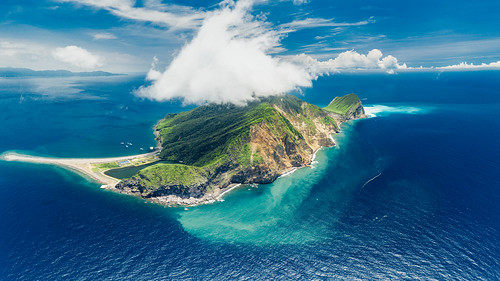turtleIslandTop: (55, 84, 370, 208)
